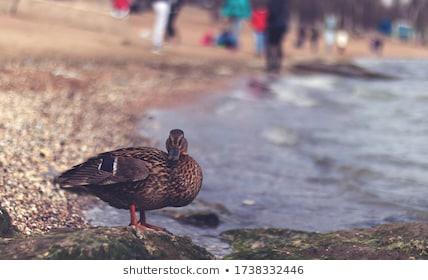duck: (37, 102, 219, 247)
